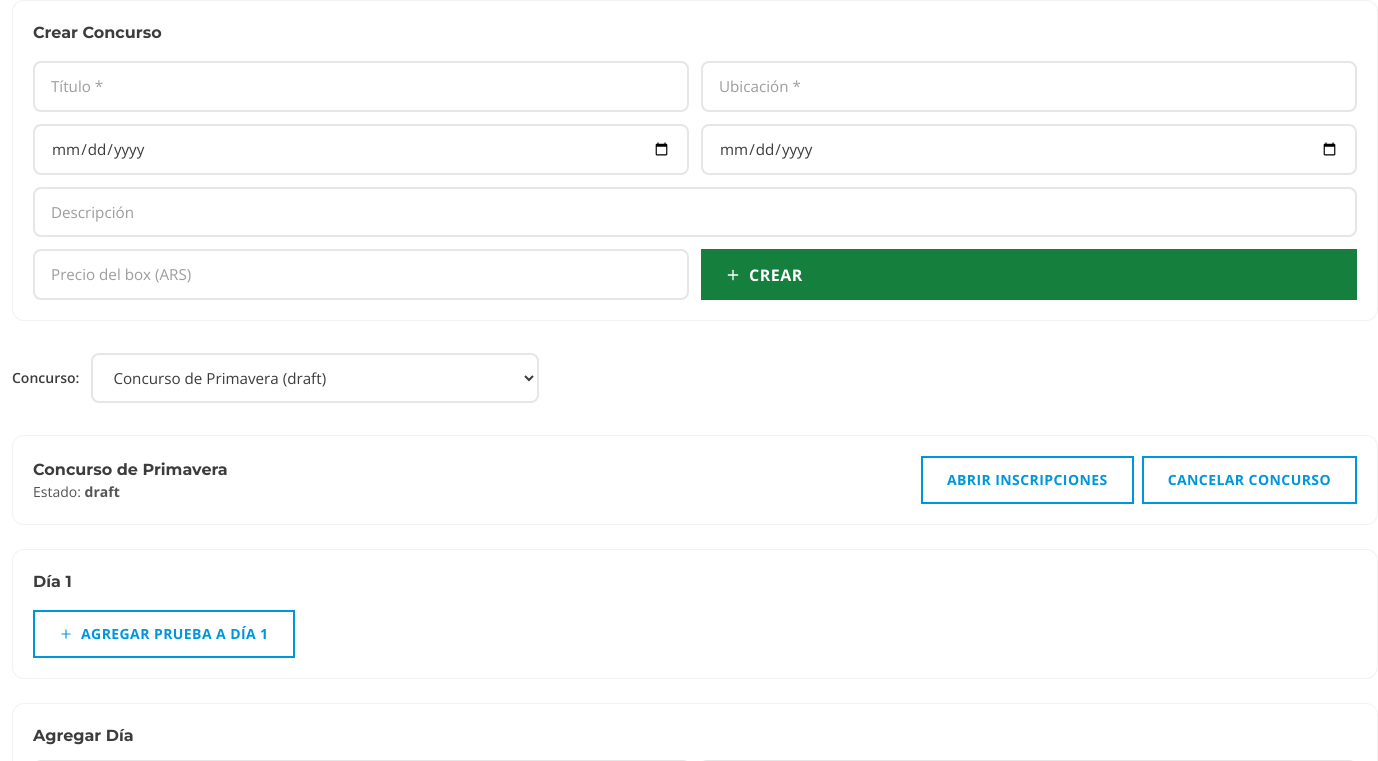
Test: AnteprogramaTab › transitions the competition status when a transition button is clicked
Click the button "Abrir Inscripciones". click: (1027, 480)
box: [921,456,1134,504]
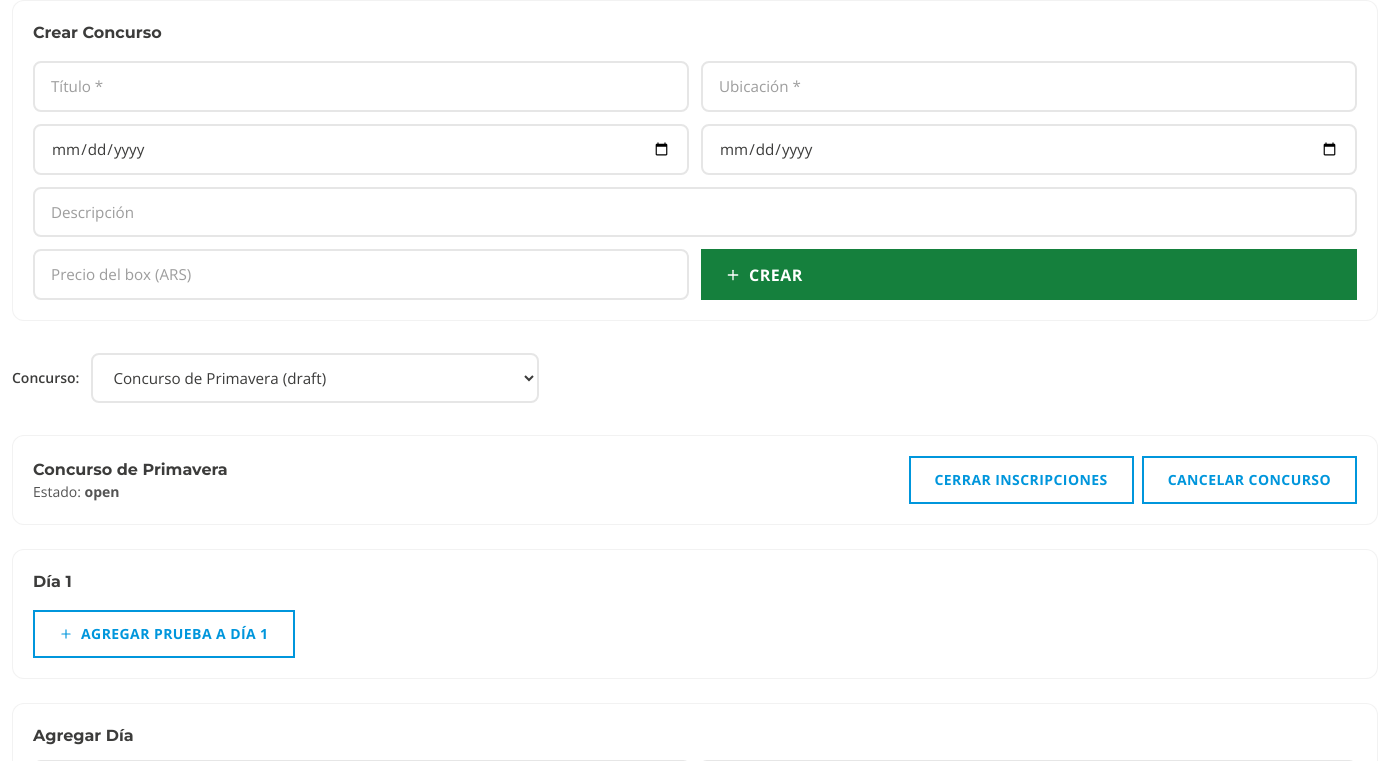
Now the button "Cerrar Inscripciones" is shown, box [908,456,1134,504]
